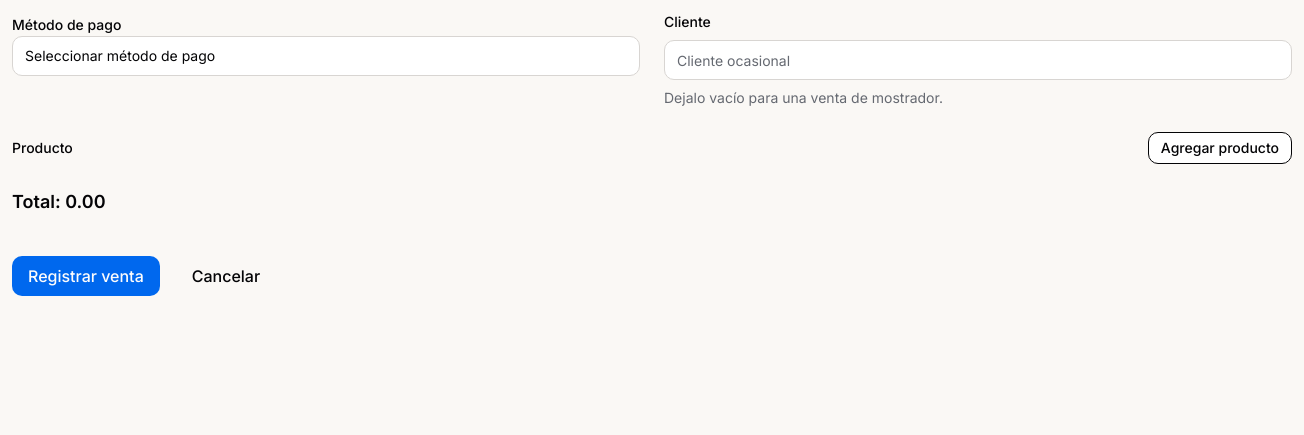
CheckoutForm › searches products server-side through the combobox
This screenshot has width=1304, height=435.
Click the button "Agregar producto" at (1220, 148), box [1148,132,1292,164]
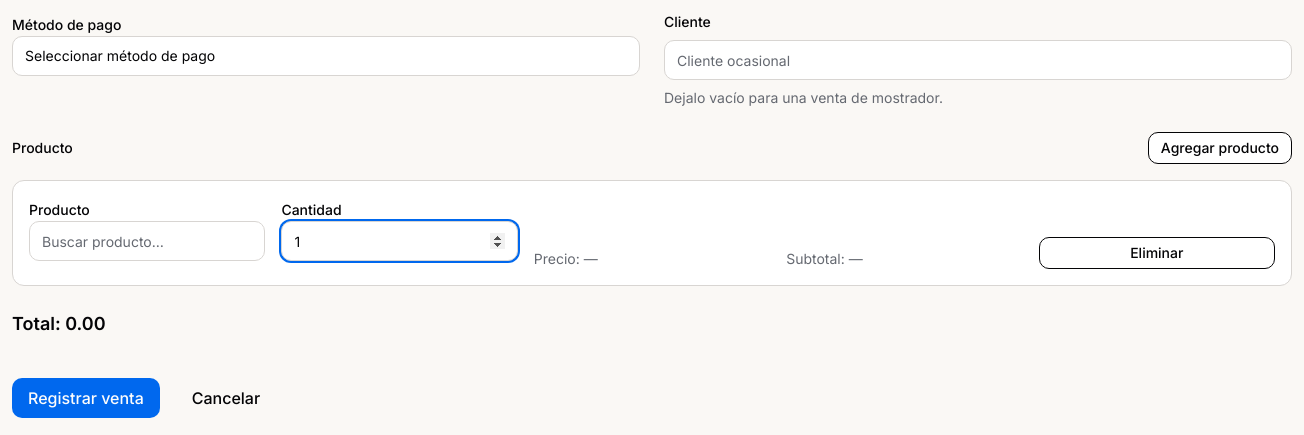
Type "filtro" into the dropdown labelled "Producto" at (147, 241), box [29,221,265,261]
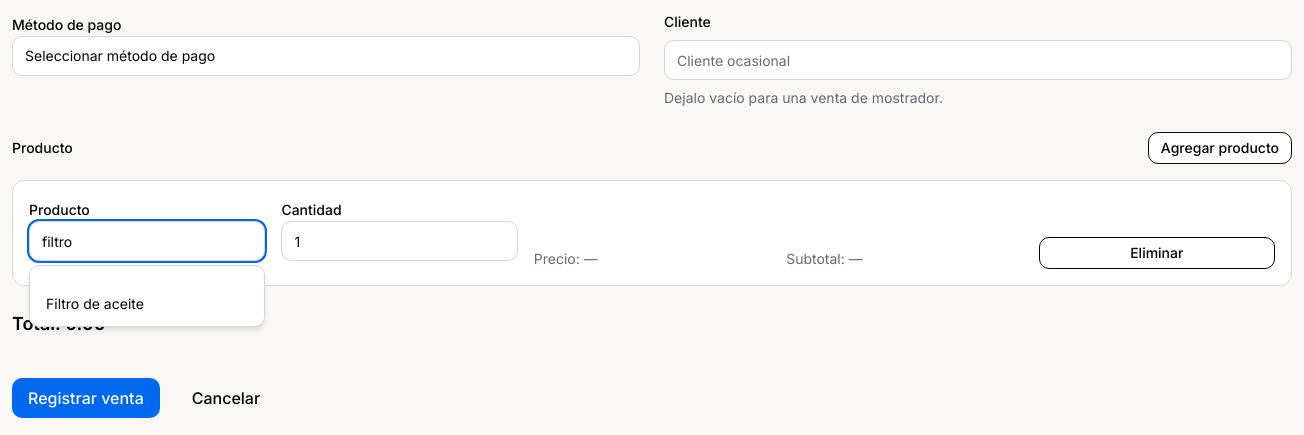
Click the option "Filtro de aceite" at (95, 304), box [46,295,144,312]
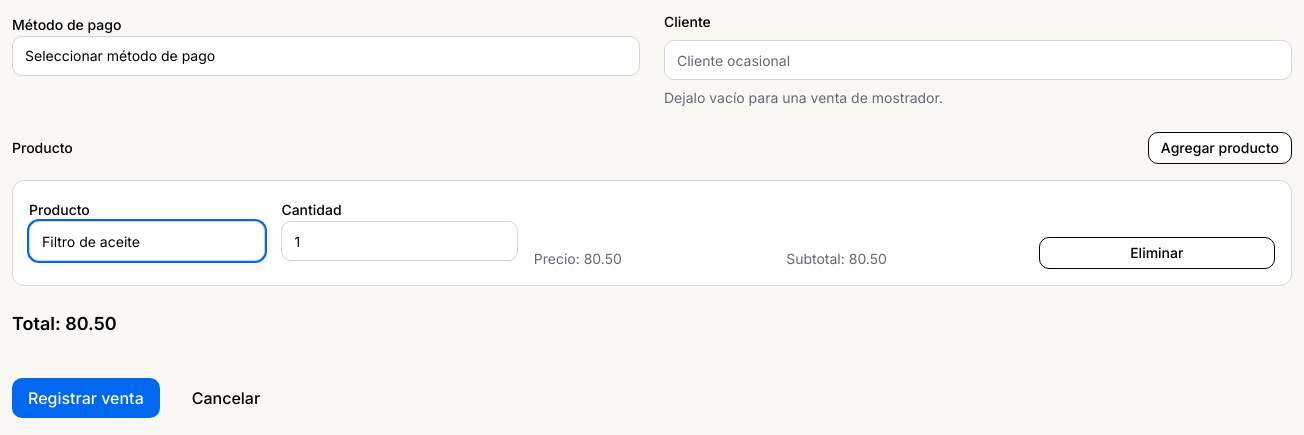
Check: the dropdown labelled "Producto" holds "Filtro de aceite", box [29,221,265,261]
